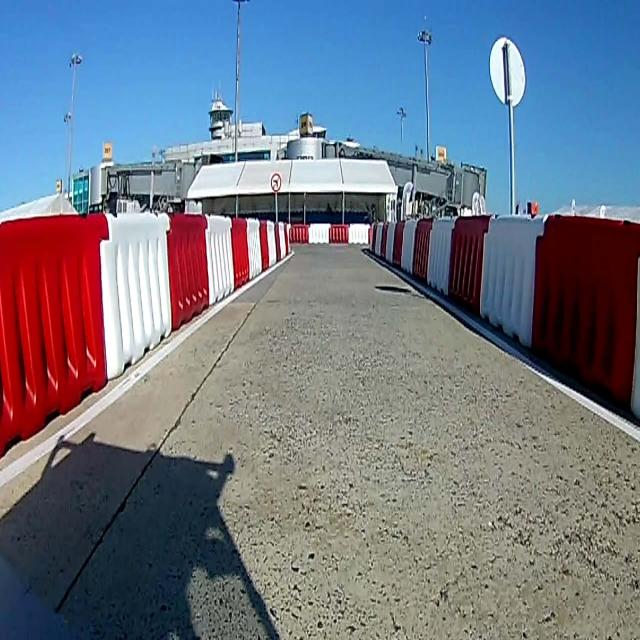soladonulmez: (270, 169, 280, 192)
